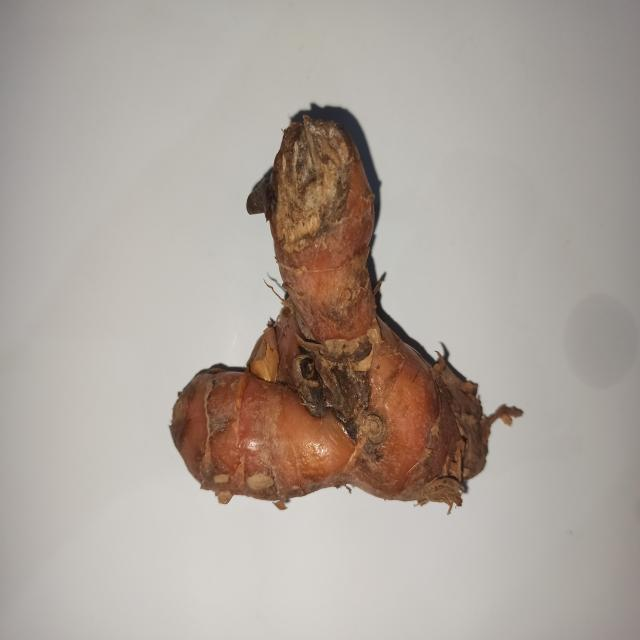ginger: (176, 107, 484, 518)
